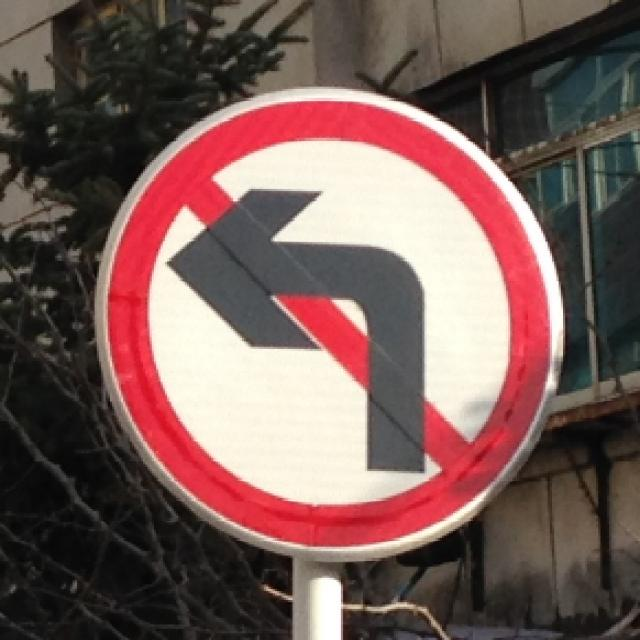Not that Direction: (92, 76, 570, 564)
